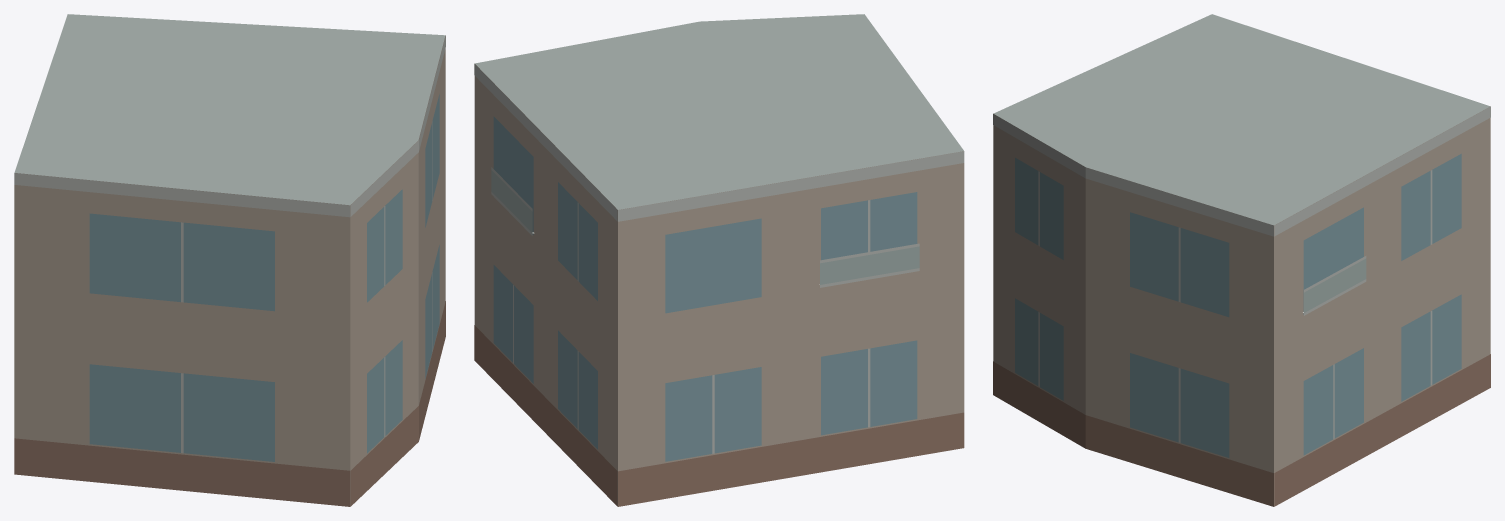
Rendered from survey-upis-32782521.glb.
The picture shows the model from 3 angles, left to right: view 1: azimuth 30°, elevation 25°; view 2: azimuth 150°, elevation 25°; view 3: azimuth 270°, elevation 25°; orthographic projection. The views are drawn at different scales.
Visible parts, largest first — view 1: survey-upis-32782521.tmp; view 2: survey-upis-32782521.tmp; view 3: survey-upis-32782521.tmp.
Part boxes in pixels (left/top/right/bottom): survey-upis-32782521.tmp: left=14, top=14, right=445, bottom=506; survey-upis-32782521.tmp: left=474, top=14, right=964, bottom=506; survey-upis-32782521.tmp: left=993, top=14, right=1490, bottom=506.
Bounding box in the file's own units: 9.84 × 6.1 × 9.78.
